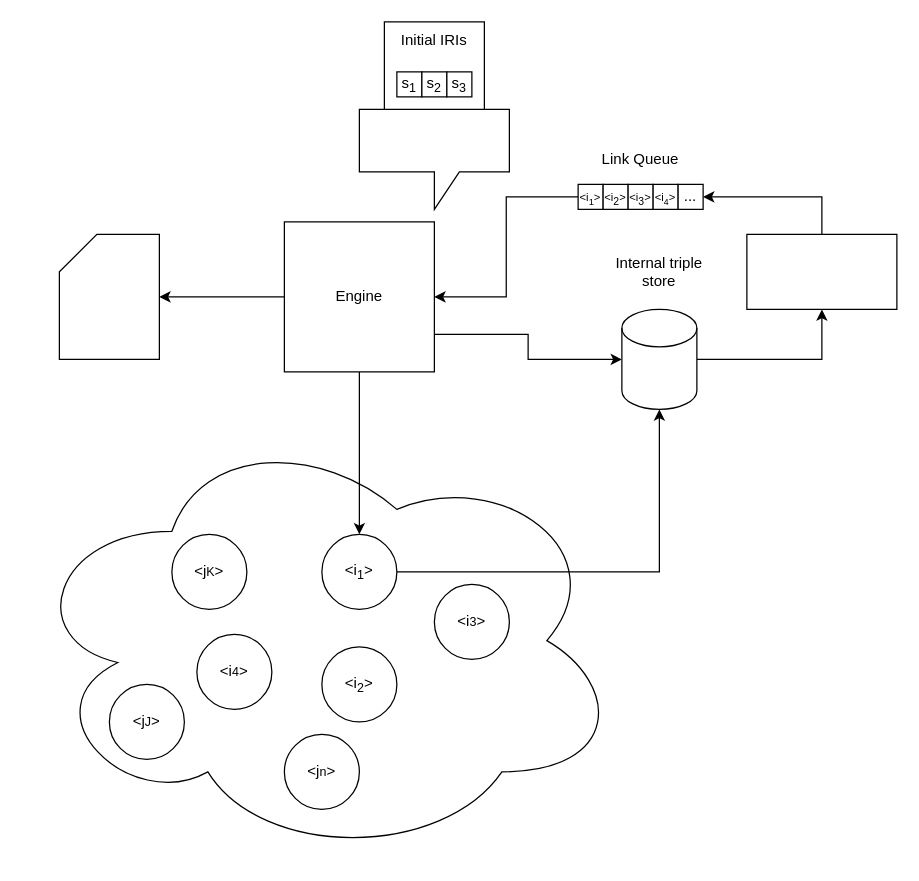
Image size: 919x881. Some labels were removed from this diagram. Here are the shapes that lost their labels. From the top down, the box of each, then its label:
(358, 108, 509, 209): Query
(746, 233, 897, 309): Reachability Criteria
(58, 233, 159, 359): Query Result
